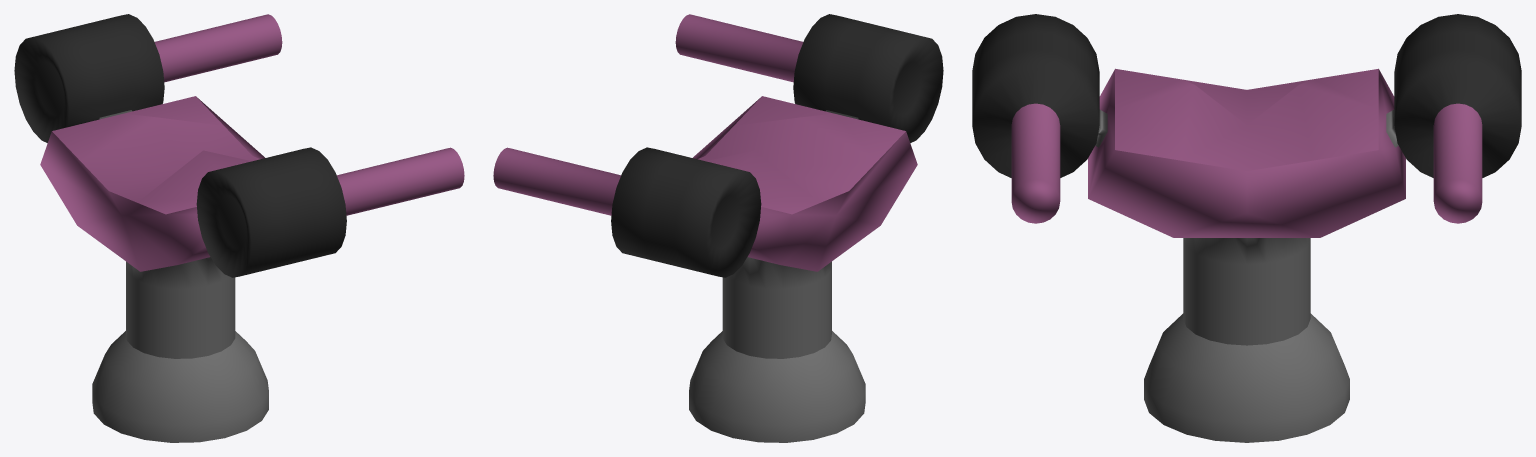
Rendered from Turret.fbx.
3 renders of one model, left to right at view 1: azimuth 30°, elevation 25°; view 2: azimuth 150°, elevation 25°; view 3: azimuth 270°, elevation 25°, orthographic. The views are drawn at different scales.
Parts seen in each view (by area): view 1: polySurface4; view 2: polySurface4; view 3: polySurface4.
Boxes of the visible parts, <box> form: polySurface4: <box>14,14,464,442</box>; polySurface4: <box>493,14,943,442</box>; polySurface4: <box>972,14,1521,442</box>.
Size of the model in its own units: 5.44 by 6.21 by 8.63.
